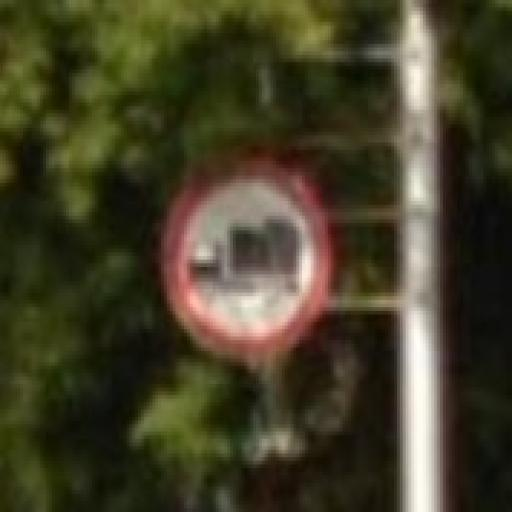traffic_sign: (162, 155, 332, 360)
